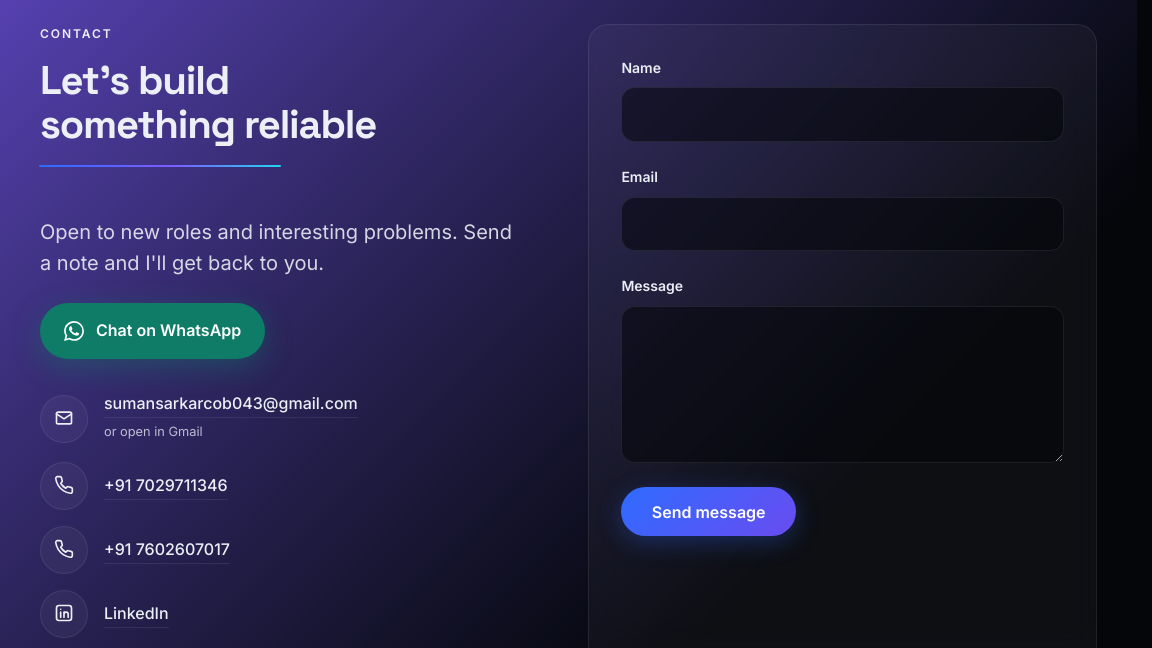
Test case: ContactComponent › shows a generic error when sending fails for another reason
In the field with id "c-name": (843, 115) [621, 87, 1064, 142], type "Ada"
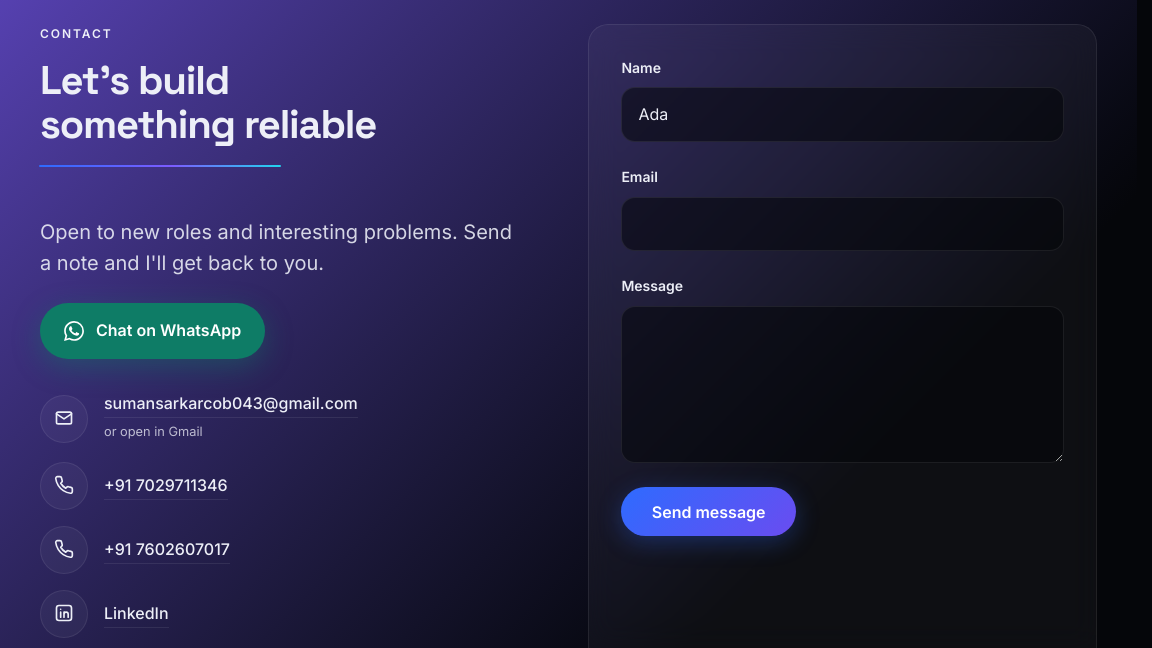
In the field labelled "Email": (843, 224) [621, 197, 1064, 251], type "ada@example.com"
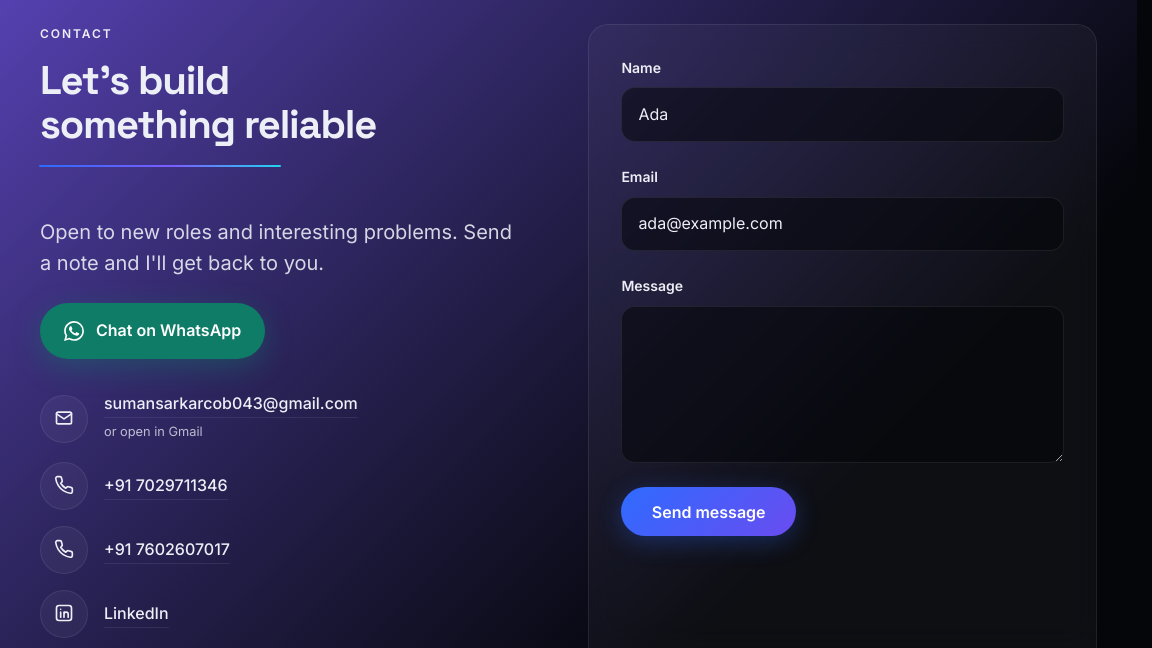
In the text box labelled "Message": (843, 384) [621, 306, 1064, 463], type "A long enough message."
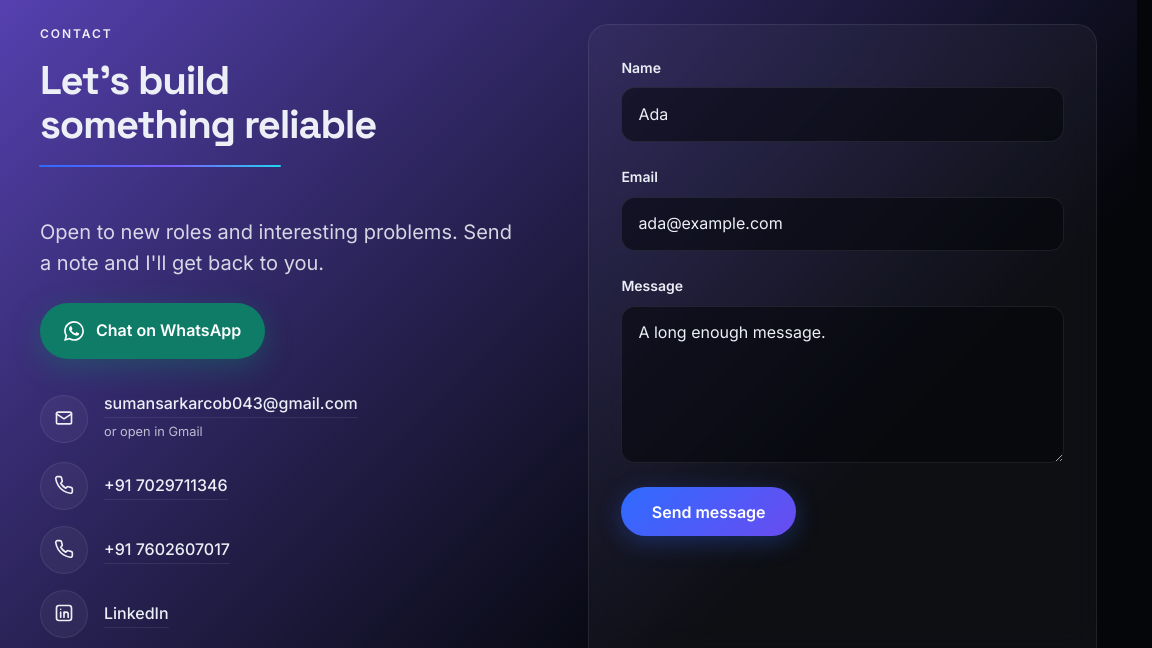
Submit the form, box [621, 57, 1064, 560]
(page scrolled)
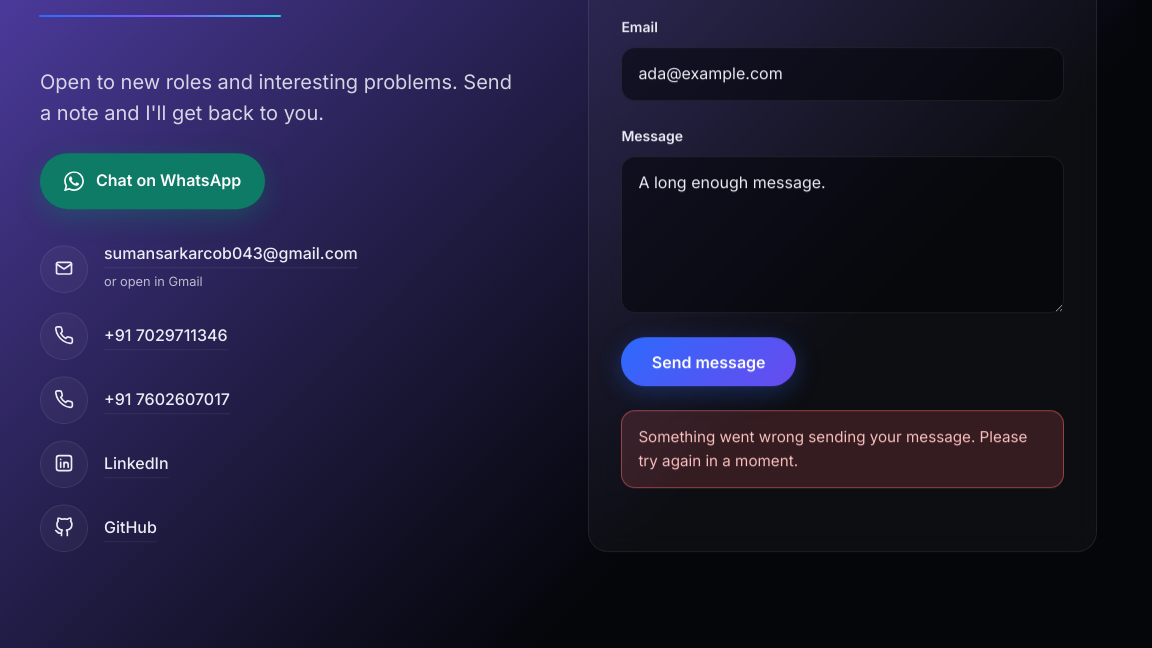
Expected: the text with class "notice--error" shows "Something went wrong", [638, 427, 1027, 470]
